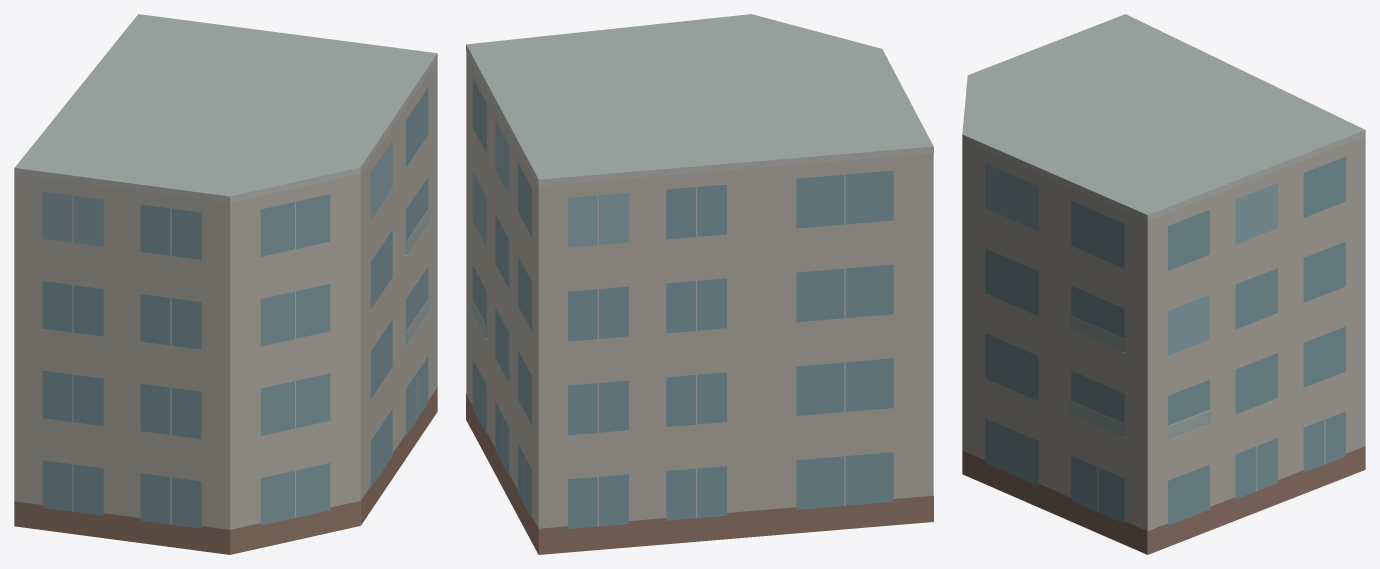
The model's file is survey-upis-32949968.glb.
The picture shows the model from 3 angles, left to right: view 1: azimuth 30°, elevation 25°; view 2: azimuth 150°, elevation 25°; view 3: azimuth 270°, elevation 25°; orthographic projection. The views are drawn at different scales.
Parts seen in each view (by area): view 1: survey-upis-32949968.tmp; view 2: survey-upis-32949968.tmp; view 3: survey-upis-32949968.tmp.
Boxes of the visible parts, x1,y1,x2,y2 form: survey-upis-32949968.tmp: (14, 14, 437, 554); survey-upis-32949968.tmp: (466, 14, 933, 554); survey-upis-32949968.tmp: (962, 14, 1365, 554).
Size of the model in its own units: 17.28 by 13.6 by 14.64.
